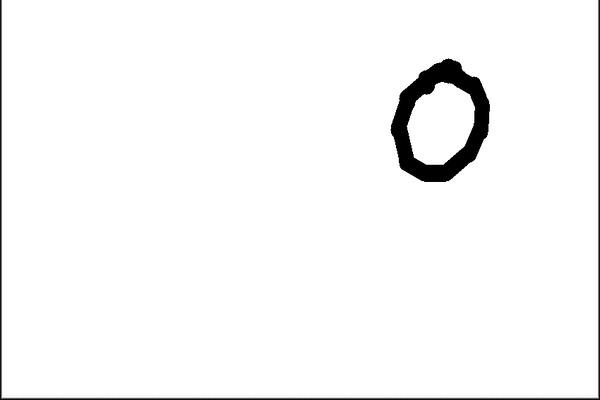O: (377, 51, 493, 184)
